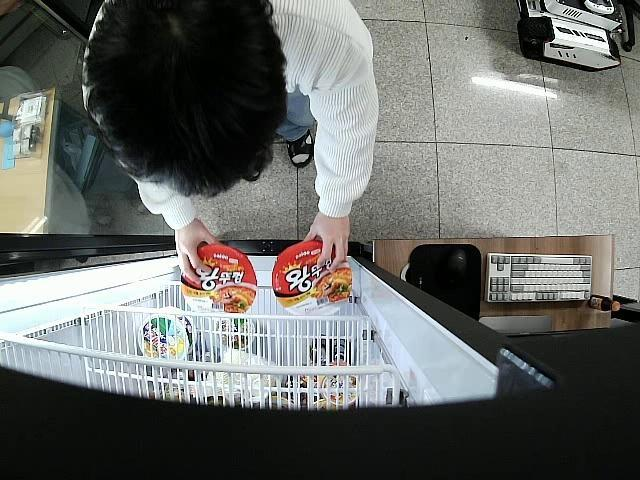10_wangTtukkeong: (276, 240, 352, 318), (182, 244, 256, 316)
